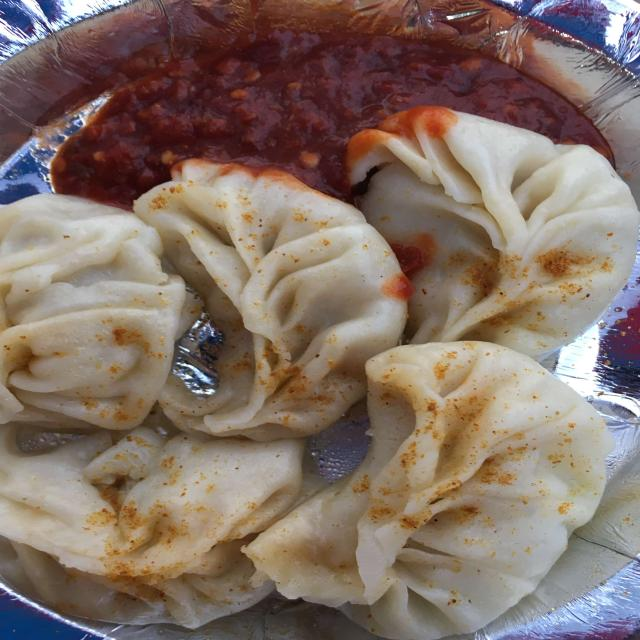momos: (0, 143, 629, 608)
